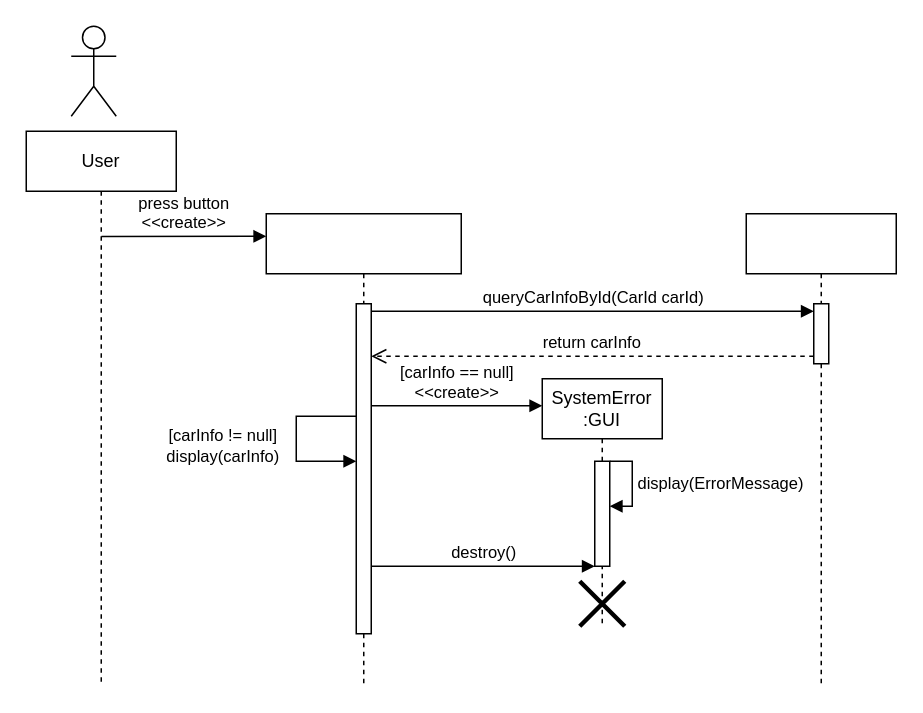
Image size: 923x713. Some labels were removed from this diagram. The box of each missing label's shape, as (x1, y1, x2, y2) in pixels:
:System: (745, 212, 896, 686)
CarInfoDetail :GUI: (265, 212, 461, 686)
